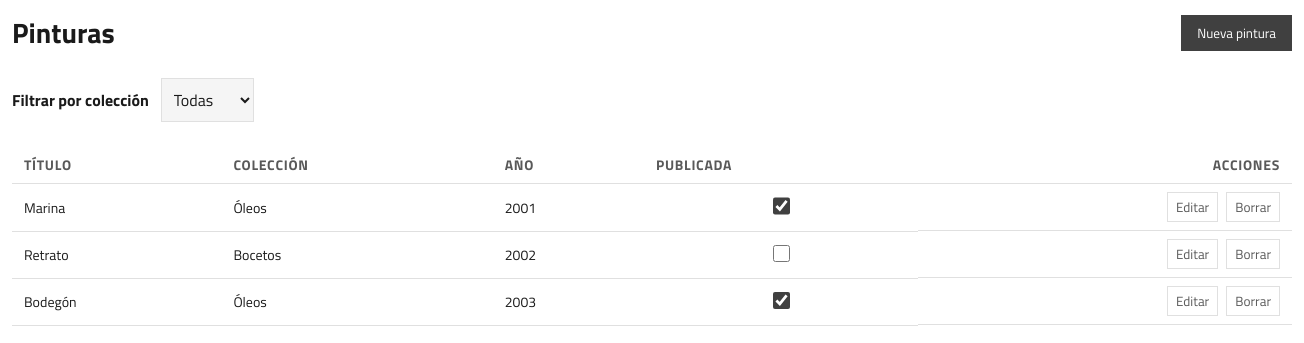
it: AdminPaintings › filtra la lista por colección vía query del server
Expected: the cell "Marina" is shown, left=12, top=184, right=221, bottom=231
Step 1. Select "Óleos" in the dropdown labelled "Filtrar por colección" → [207, 100], box left=161, top=78, right=254, bottom=122
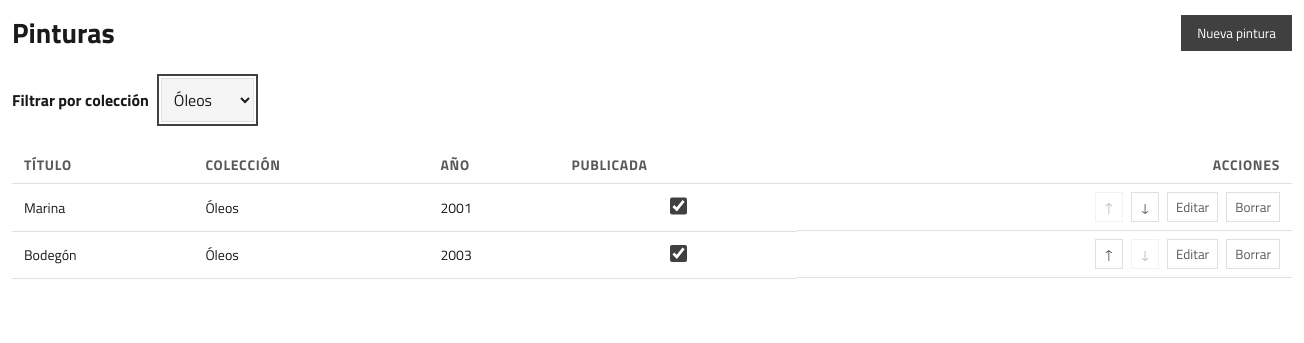
Expected: the cell "Marina" is shown, left=12, top=184, right=193, bottom=231
Expected: the cell "Retrato" is gone
Step 2. Select "Todas" in the dropdown labelled "Filtrar por colección" → [207, 100], box left=161, top=78, right=254, bottom=122
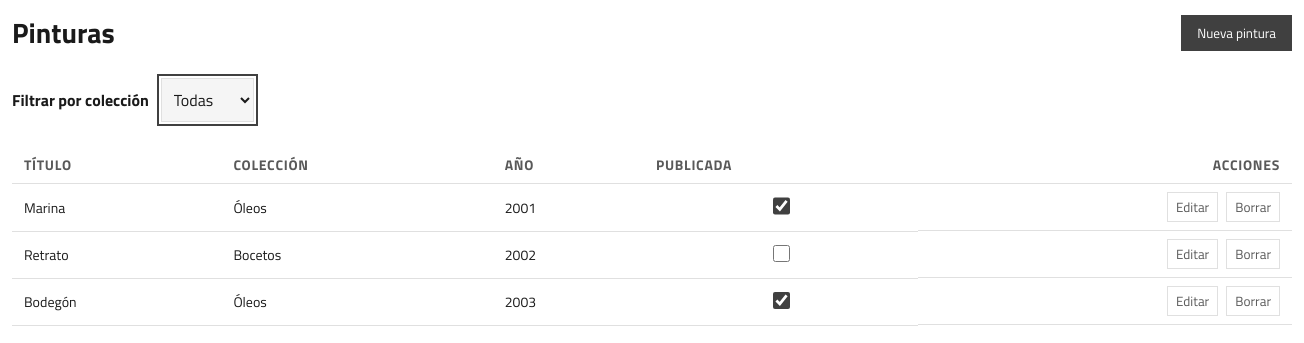
Expected: the cell "Retrato" is shown, left=12, top=231, right=221, bottom=278
